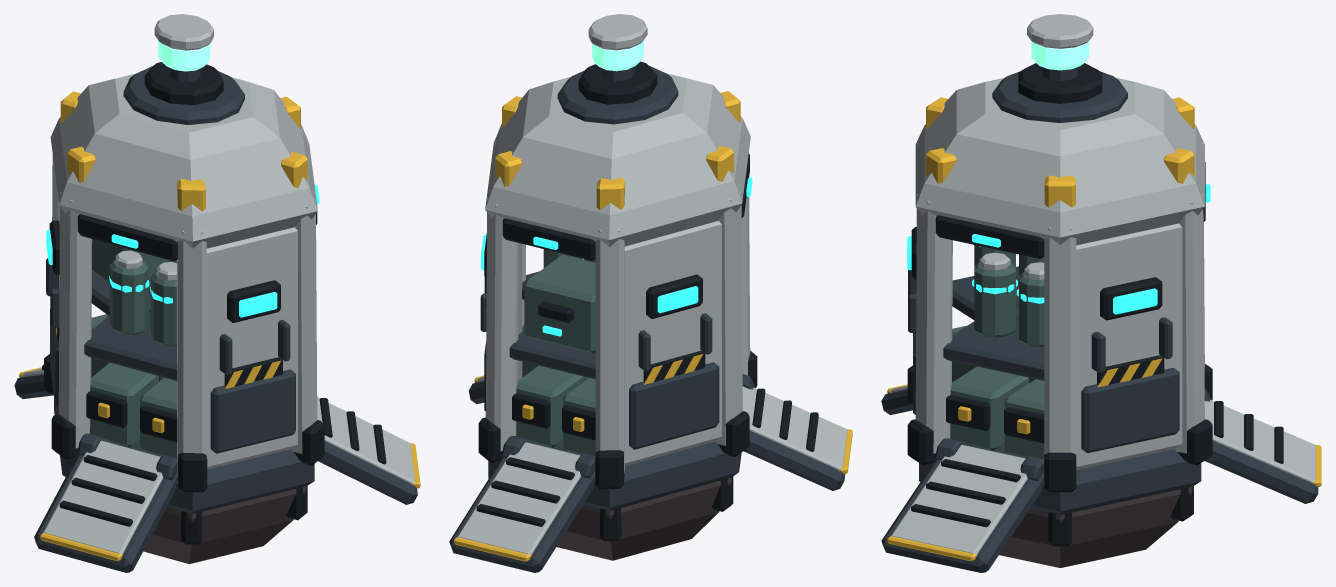
Rendered from supply_ammo_pod.glb.
3 renders of one model, left to right at view 1: azimuth 30°, elevation 25°; view 2: azimuth 150°, elevation 25°; view 3: azimuth 270°, elevation 25°, orthographic. The views are drawn at different scales.
Visible parts, largest first — view 1: Foundation and chassis, BayDoor_02 Mesh, BayDoor_03 Mesh, StatusBeacon Mesh, BayDoor_01 Mesh; view 2: Foundation and chassis, BayDoor_01 Mesh, BayDoor_02 Mesh, StatusBeacon Mesh; view 3: Foundation and chassis, BayDoor_03 Mesh, BayDoor_01 Mesh, StatusBeacon Mesh, BayDoor_02 Mesh.
Boxes of the visible parts, box(x1,y1,x2,y2) form: Foundation and chassis: box(44, 66, 324, 563); BayDoor_02 Mesh: box(34, 433, 177, 572); BayDoor_03 Mesh: box(317, 397, 420, 504); StatusBeacon Mesh: box(144, 14, 223, 105); BayDoor_01 Mesh: box(14, 364, 53, 398); Foundation and chassis: box(478, 65, 757, 560); BayDoor_01 Mesh: box(449, 436, 595, 572); BayDoor_02 Mesh: box(742, 374, 852, 490); StatusBeacon Mesh: box(578, 14, 657, 104); Foundation and chassis: box(907, 71, 1212, 567); BayDoor_03 Mesh: box(881, 438, 1044, 572); BayDoor_01 Mesh: box(1204, 388, 1321, 503); StatusBeacon Mesh: box(1018, 14, 1102, 103); BayDoor_02 Mesh: box(881, 384, 912, 414).
Size of the model in its own units: 2.2 by 2.85 by 2.2.
